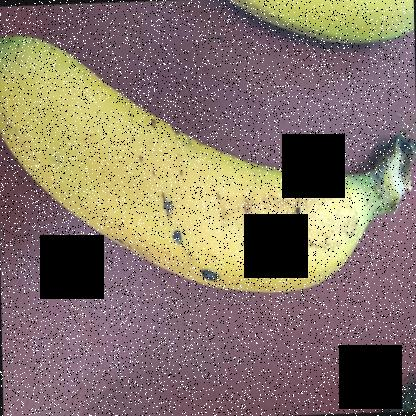freshripe: (216, 0, 416, 48)
ripe: (0, 21, 378, 303)
